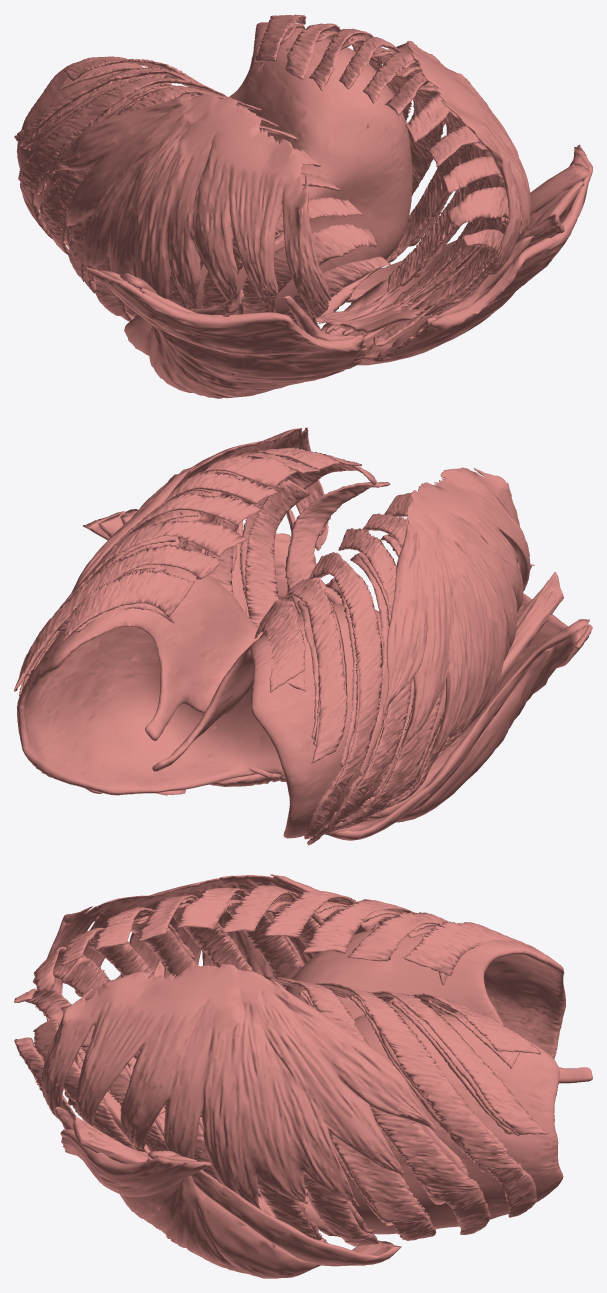
File: thorax__muscular.36f4c68f2c.glb
3 renders of one model, top to bottom at view 1: azimuth 30°, elevation 25°; view 2: azimuth 150°, elevation 25°; view 3: azimuth 270°, elevation 25°, orthographic.
Parts seen in each view (by area): view 1: FMA13398, FMA9756, FMA13295, FMA9758, FMA79979, FMA34690, FMA13399, FMA9757, FMA79980, FMA34691, FMA9762, FMA45875 (+5 smaller); view 2: FMA13295, FMA9756, FMA13398, FMA9758, FMA9757, FMA79979, FMA45874, FMA13399, FMA13375, FMA34691, FMA79980, FMA34690 (+1 smaller); view 3: FMA13399, FMA9756, FMA13295, FMA9758, FMA79980, FMA9757, FMA13398, FMA45875, FMA34691, FMA13376, FMA9762.
Part boxes in pixels (box(x1,y1,x2,y2)): FMA13398: box(54, 93, 331, 317); FMA9756: box(14, 14, 509, 333); FMA13295: box(16, 22, 412, 314); FMA9758: box(28, 31, 508, 317); FMA79979: box(98, 269, 366, 398); FMA34690: box(83, 265, 363, 355); FMA13399: box(396, 40, 530, 275); FMA9757: box(20, 23, 509, 346); FMA79980: box(320, 153, 589, 365); FMA34691: box(430, 144, 592, 330); FMA9762: box(286, 273, 426, 333); FMA45875: box(346, 163, 589, 302); FMA13295: box(17, 565, 411, 838); FMA9756: box(14, 447, 519, 806); FMA13398: box(382, 467, 530, 762); FMA9758: box(26, 473, 445, 799); FMA9757: box(22, 456, 443, 845); FMA79979: box(365, 624, 588, 822); FMA45874: box(325, 619, 589, 840); FMA13399: box(71, 427, 330, 592); FMA13375: box(438, 572, 563, 756); FMA34691: box(83, 511, 341, 603); FMA79980: box(98, 511, 297, 786); FMA34690: box(517, 593, 592, 667); FMA13399: box(41, 964, 436, 1209); FMA9756: box(14, 885, 548, 1240); FMA13295: box(286, 929, 592, 1234); FMA9758: box(61, 899, 527, 1240); FMA79980: box(120, 1155, 328, 1278); FMA9757: box(79, 893, 536, 1246); FMA13398: box(43, 874, 382, 1027); FMA45875: box(147, 1150, 401, 1266); FMA34691: box(60, 1129, 211, 1197); FMA13376: box(73, 1116, 264, 1211); FMA9762: box(258, 1191, 340, 1237).
Size of the model in its own units: 388 by 230 by 390.
